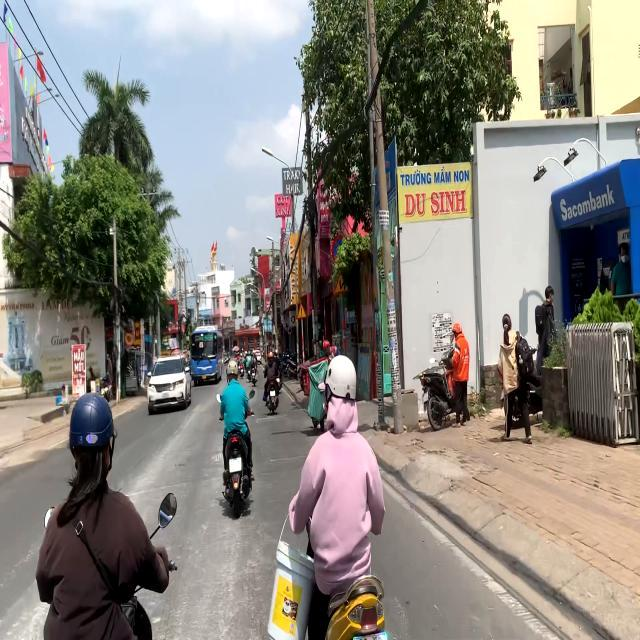Nhieu cho ngoat lien tiep ben trai: (333, 270, 350, 294)
